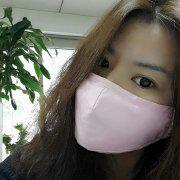OK: (71, 39, 177, 151)
